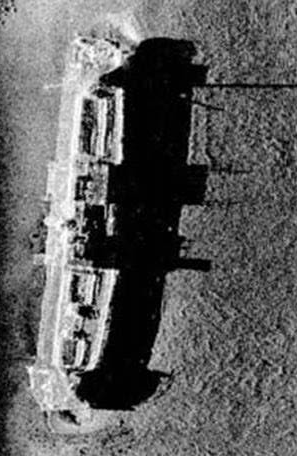ship: (33, 34, 137, 418)
